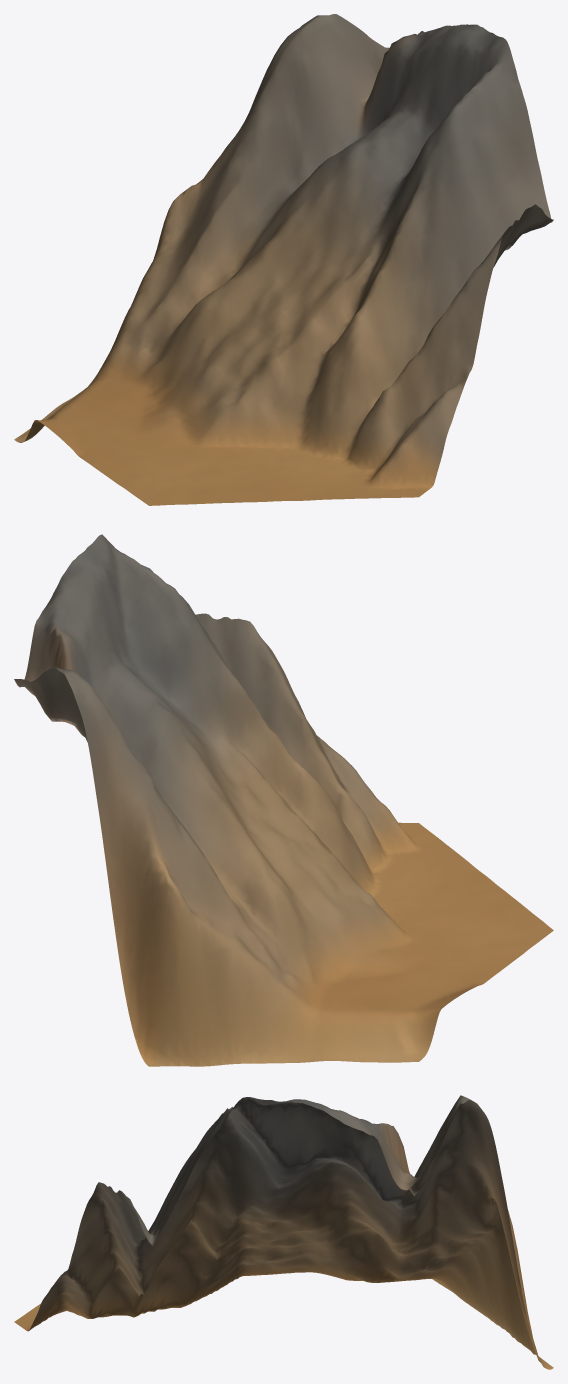
3 views of the same model, one above another, from view 1: azimuth 30°, elevation 25°; view 2: azimuth 150°, elevation 25°; view 3: azimuth 270°, elevation 25° (orthographic).
Parts seen in each view (by area): view 1: terrain; view 2: terrain; view 3: terrain.
Part boxes in pixels (bbox=[...]): terrain: bbox=[14, 14, 553, 505]; terrain: bbox=[14, 534, 553, 1066]; terrain: bbox=[14, 1095, 553, 1369].
Size of the model in its own units: 4330 by 3777 by 5000.
